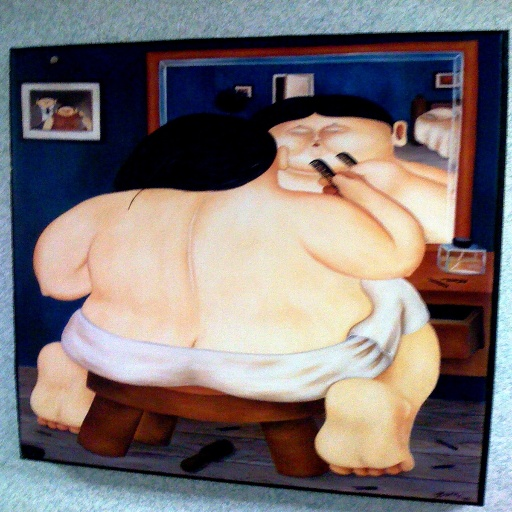hand: (318, 169, 368, 192)
